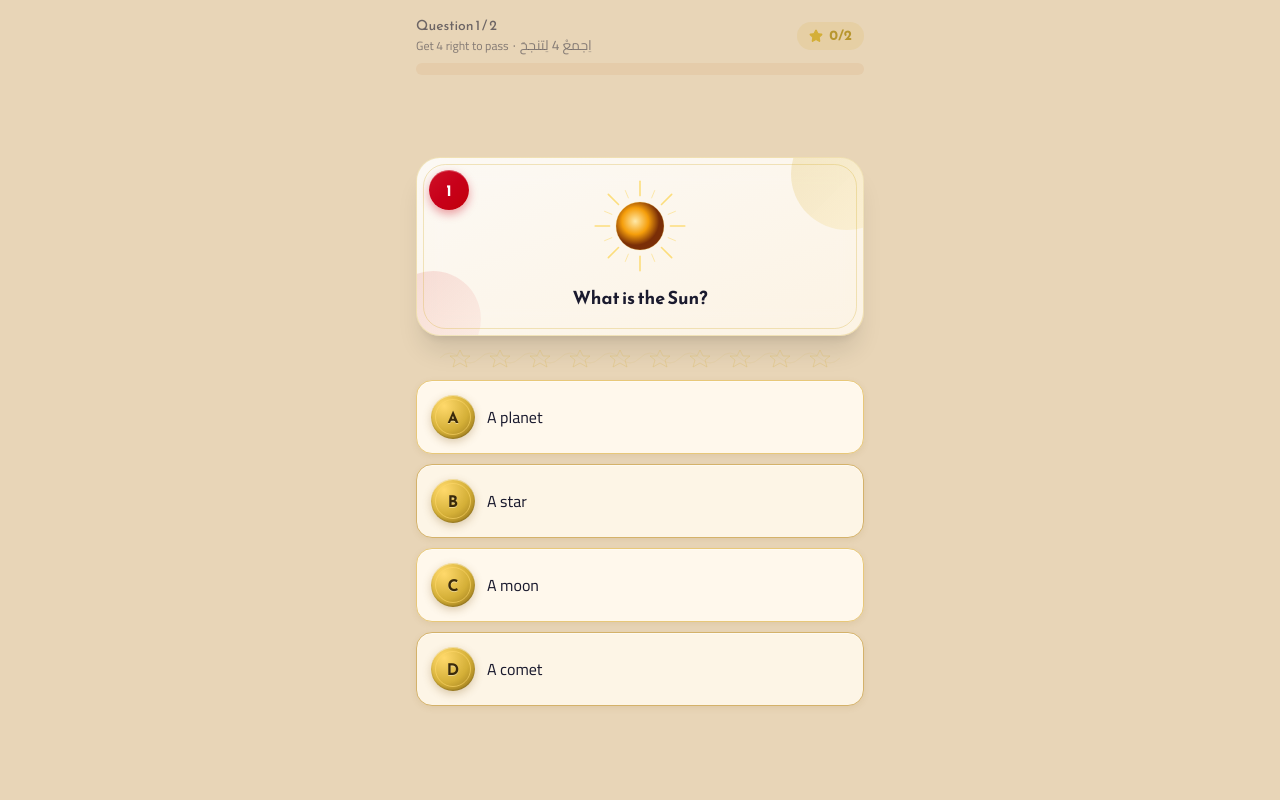
Test: QuizPhase › shows wrong feedback on incorrect answer
What coordinates should you click on to do the following:
click the button with aria-label "option A: A planet"
I would click on:
 (453, 417)
Its box is [416,380,864,454].
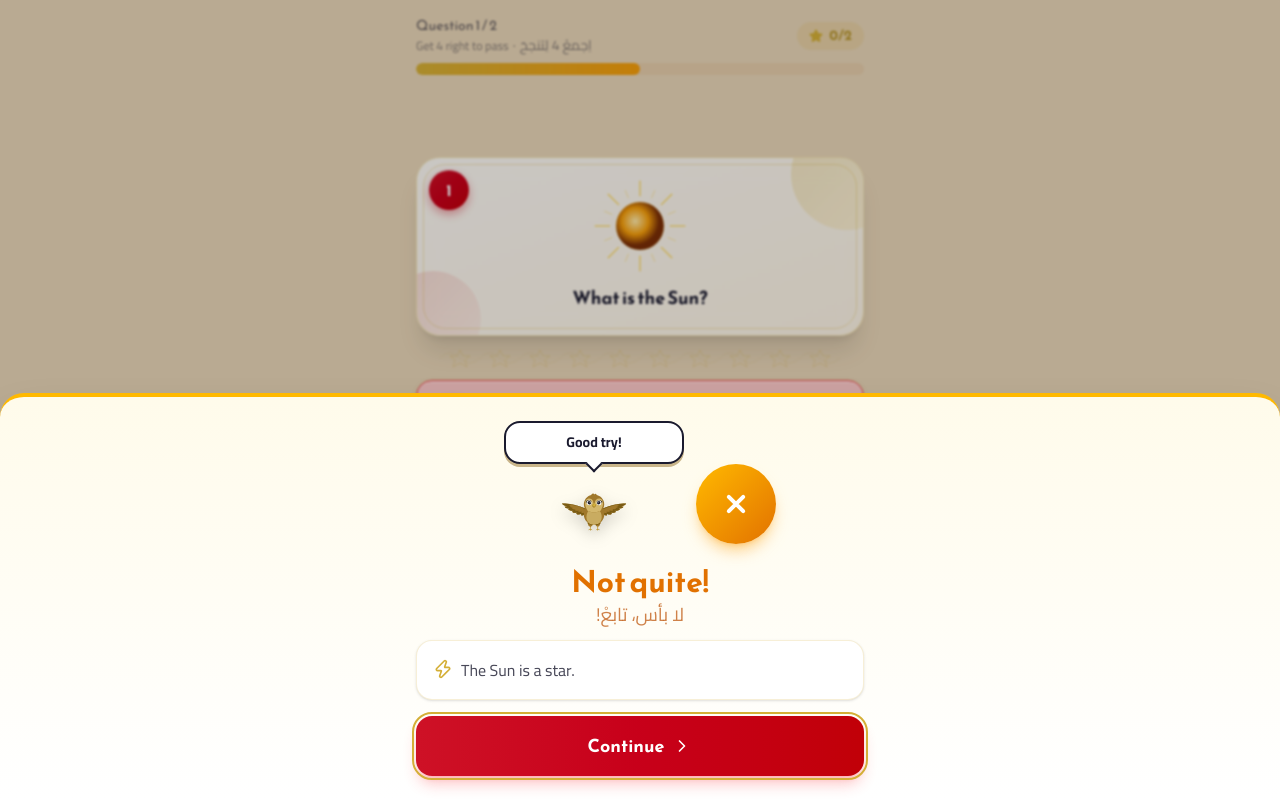
Expected: the heading "Not quite!" is shown, [571,559,709,604]
